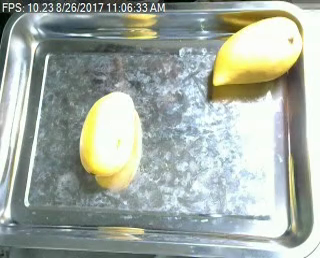Mango: (208, 9, 315, 91), (77, 86, 141, 177)
